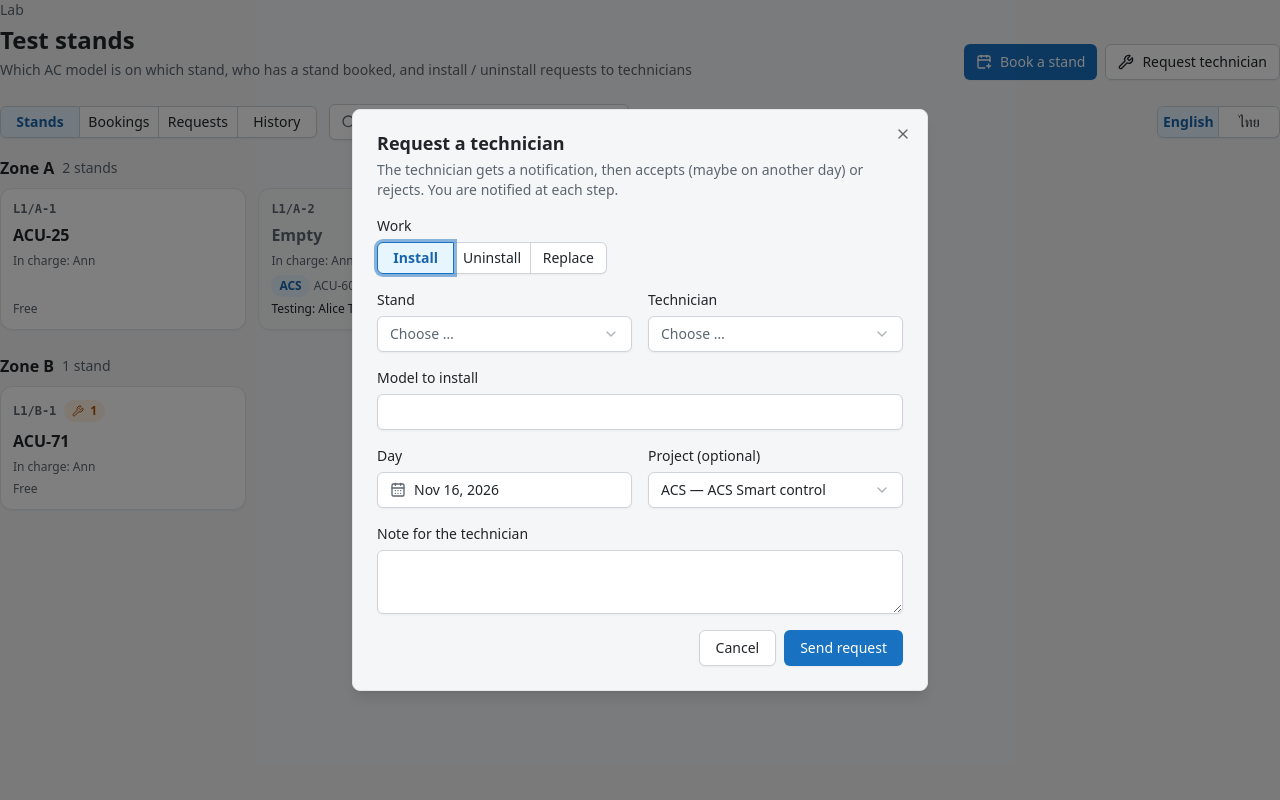
Scenario: Test stands page › sends a request to a technician
Earlier steps of the test are not shown.
Later steps or results of the test are not shown.
Click the radio button labelled "Replace" at (569, 258), box [531,242,607,274]
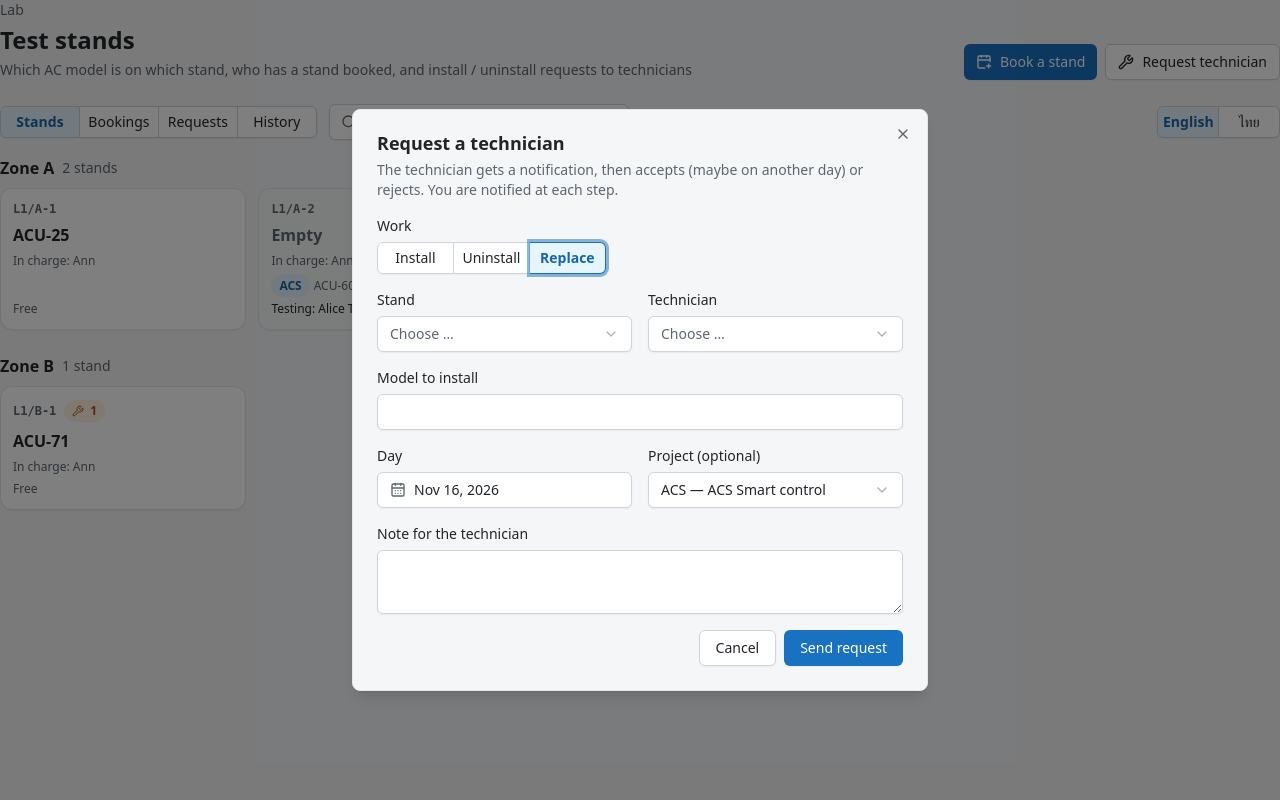
Click the dropdown named "Stand" at (504, 334), box [377,316,632,352]
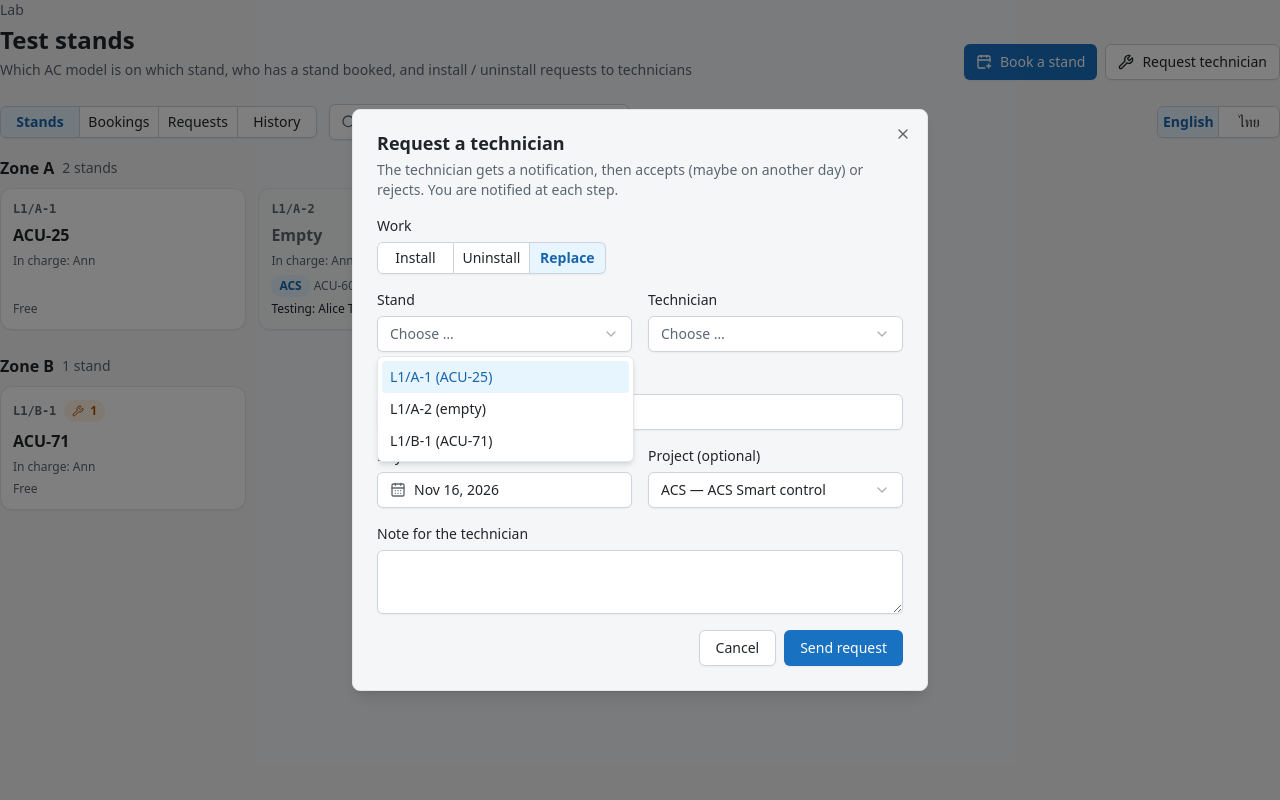
Click the option "L1/B-1 (ACU-71)" at (441, 440), box [390,431,492,450]
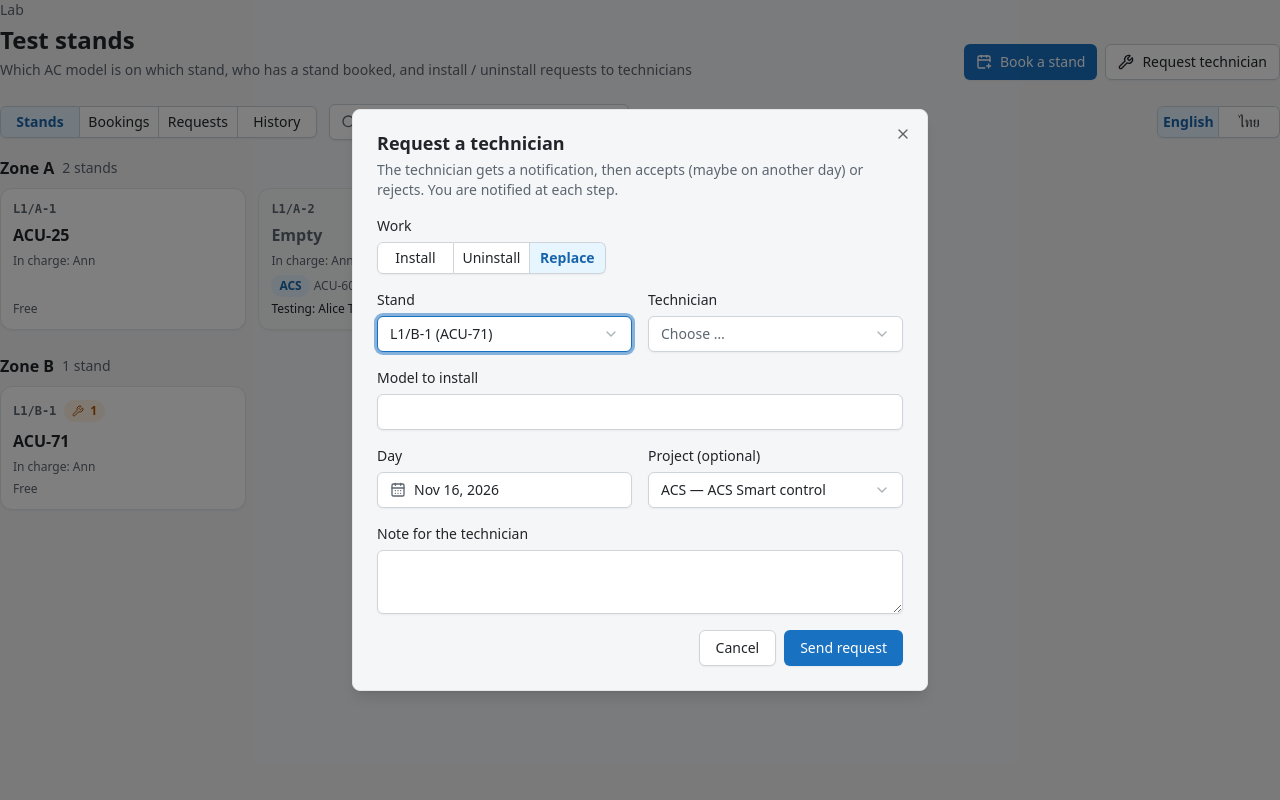
Click the dropdown named "Technician" at (776, 334), box [648,316,903,352]
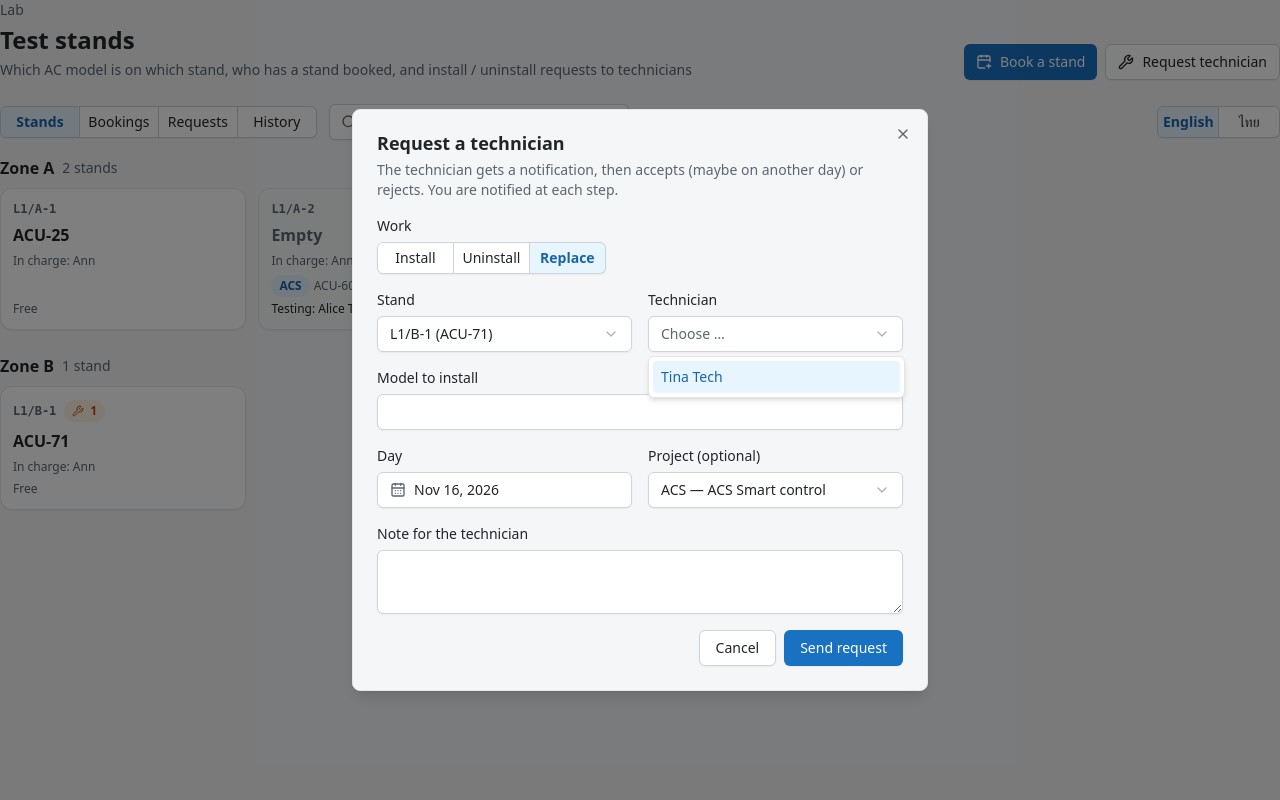
Click the option "Tina Tech" at (776, 377), box [653,361,900,393]
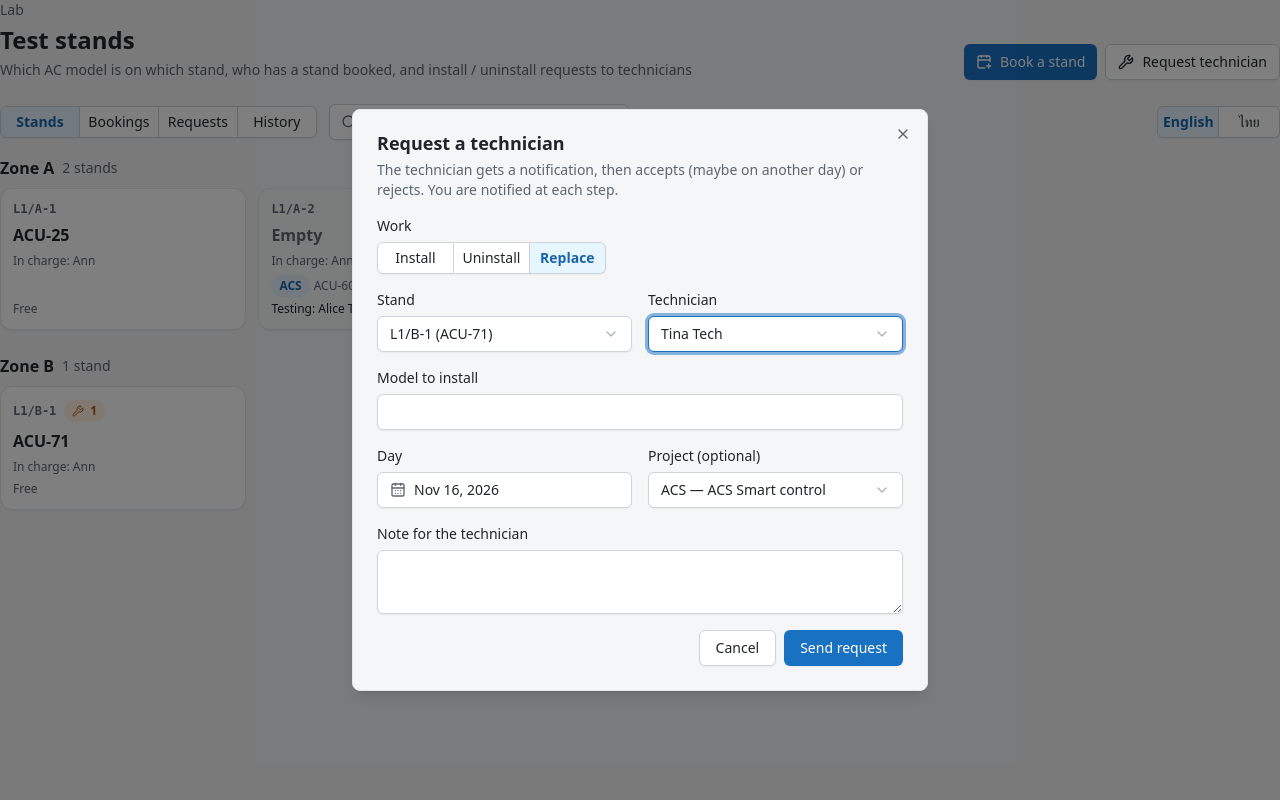
Click the button "Send request" at (844, 648), box [784,630,903,666]
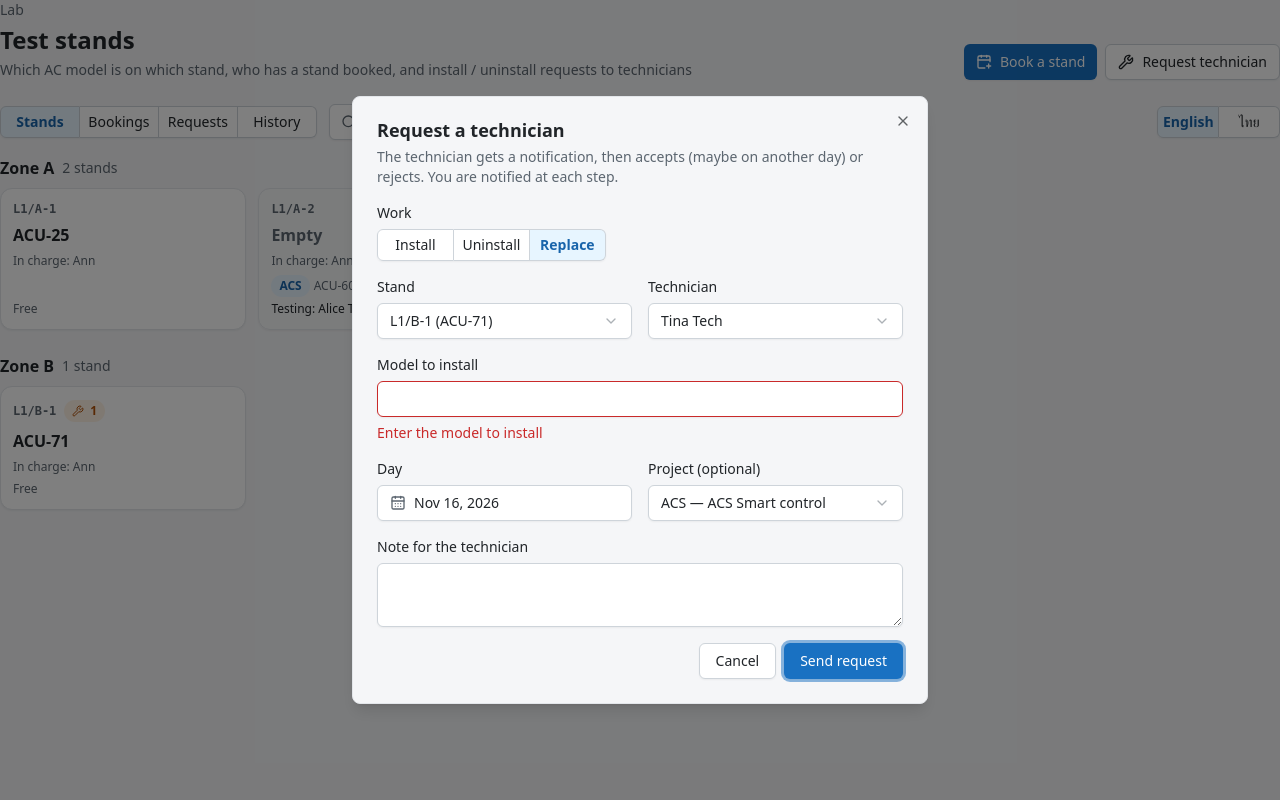
Expected: the text "Enter the model to install" is shown, [377,423,543,442]
